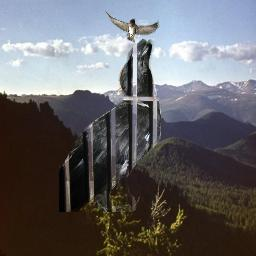Crow: (59, 39, 161, 212)
Swallow: (104, 10, 160, 43)
